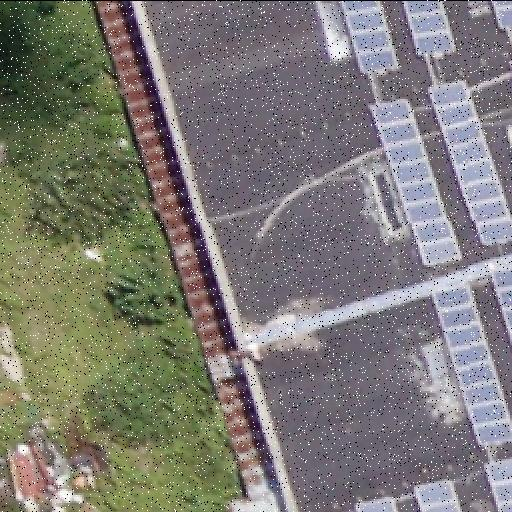solar-panel: (425, 80, 511, 248), (369, 96, 455, 264), (432, 281, 512, 447), (338, 0, 402, 72), (401, 0, 455, 58), (488, 261, 512, 347), (481, 454, 511, 512), (414, 476, 462, 512), (489, 1, 511, 31), (356, 496, 396, 512), (324, 508, 336, 512)
